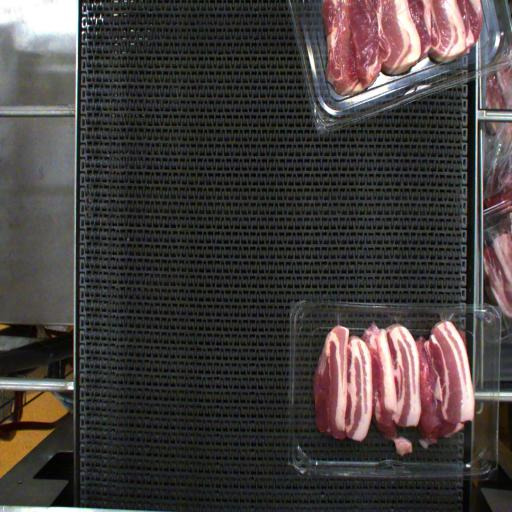packaging-error: (386, 302, 402, 326), (437, 306, 454, 327)
